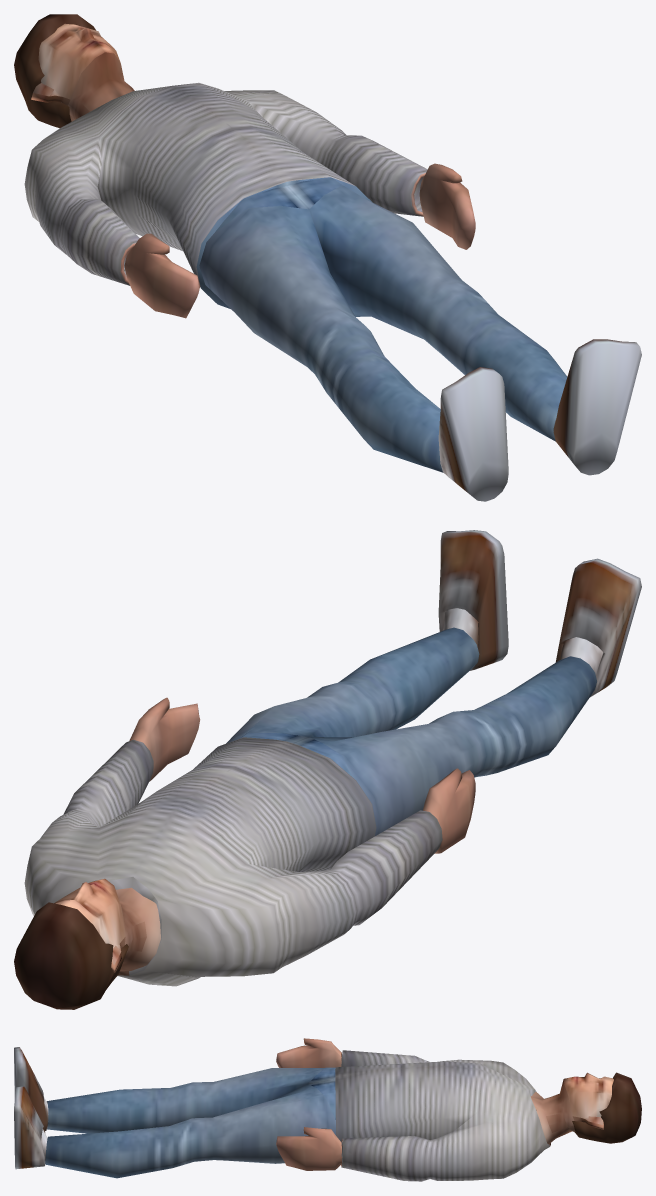
Rendered from Character.fbx.
The picture shows the model from 3 angles, top to bottom: view 1: azimuth 30°, elevation 25°; view 2: azimuth 150°, elevation 25°; view 3: azimuth 270°, elevation 25°; orthographic projection. The views are drawn at different scales.
Parts seen in each view (by area): view 1: Character; view 2: Character; view 3: Character.
Part boxes in pixels (box(x1,y1,x2,y2)): Character: box(14, 14, 641, 501); Character: box(14, 530, 641, 1009); Character: box(14, 1038, 641, 1181).
Bounding box in the file's own units: 0.7031 × 1.9 × 0.33.
1 material, 1 textured.
